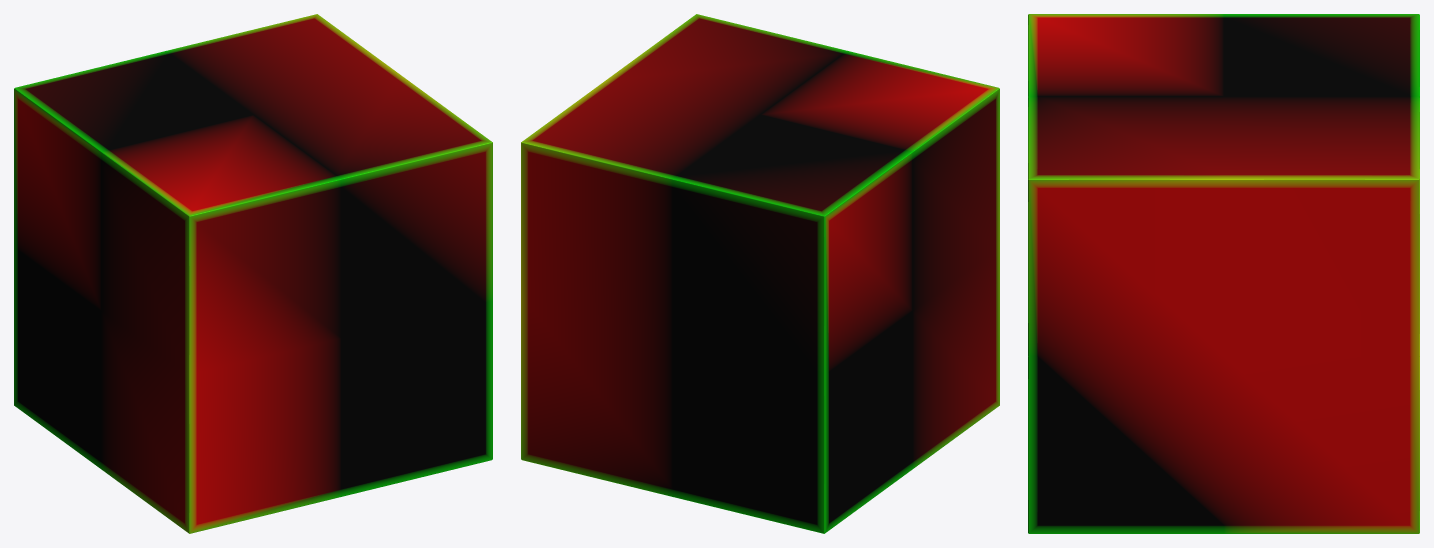
The model's file is CubeBlendedMat.fbx.
3 views of the same model, side by side, from view 1: azimuth 30°, elevation 25°; view 2: azimuth 150°, elevation 25°; view 3: azimuth 270°, elevation 25° (orthographic). The views are drawn at different scales.
Parts seen in each view (by area): view 1: Cube; view 2: Cube; view 3: Cube.
Boxes of the visible parts, bbox=[...] form: Cube: bbox=[14, 14, 492, 533]; Cube: bbox=[521, 14, 999, 533]; Cube: bbox=[1028, 14, 1419, 533].
Bounding box in the file's own units: 200 × 200 × 200.
